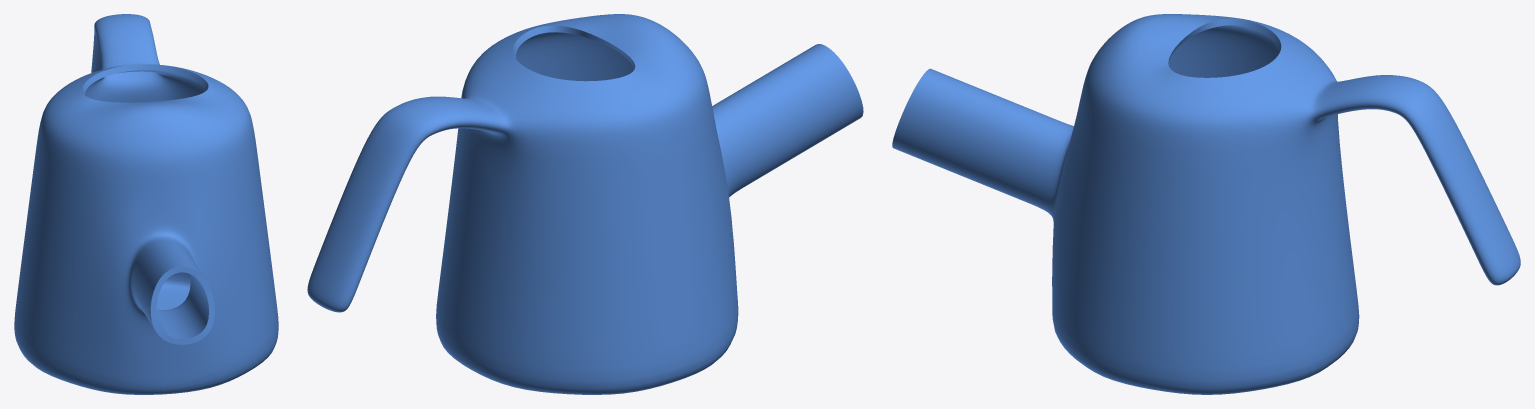
File: waterbox.fbx
The picture shows the model from 3 angles, left to right: view 1: azimuth 30°, elevation 25°; view 2: azimuth 150°, elevation 25°; view 3: azimuth 270°, elevation 25°; orthographic projection. The views are drawn at different scales.
Parts seen in each view (by area): view 1: Circle; view 2: Circle; view 3: Circle.
Boxes of the visible parts, <box> form: Circle: <box>14,14,278,394</box>; Circle: <box>307,14,863,394</box>; Circle: <box>892,14,1520,394</box>.
Size of the model in its own units: 184 by 195 by 366.
